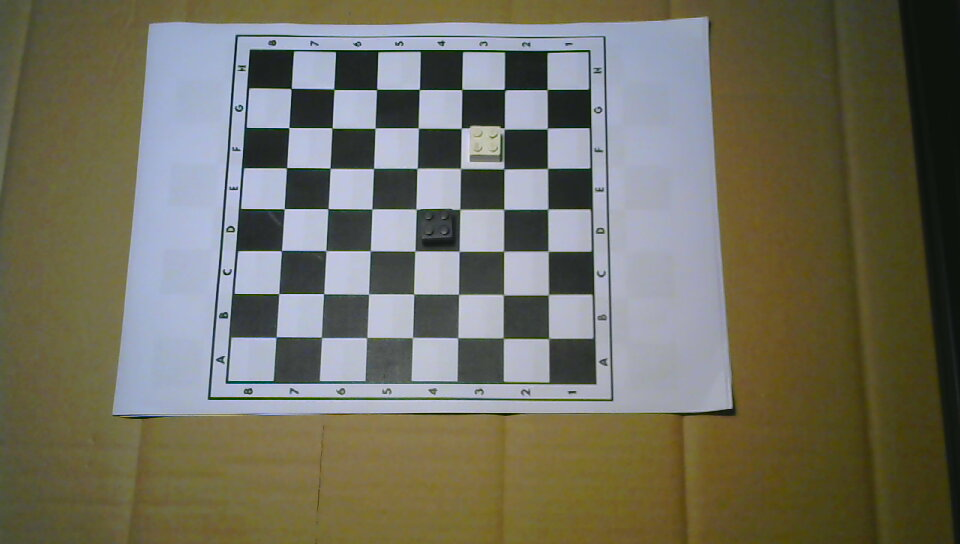bp: (420, 209, 455, 248)
wp: (468, 124, 503, 164)
